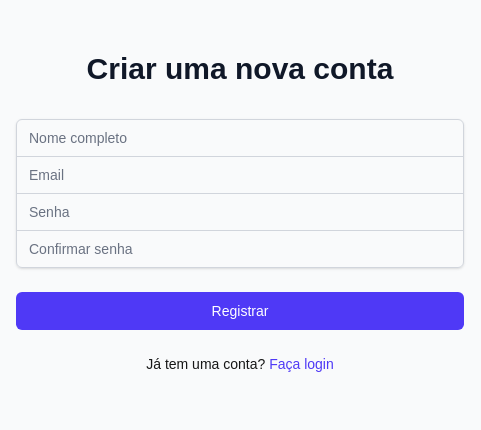
Test case: Register › should show error message on empty fields
Click the button "Registrar" at (240,310), box x1=16 y1=292 x2=464 y2=330
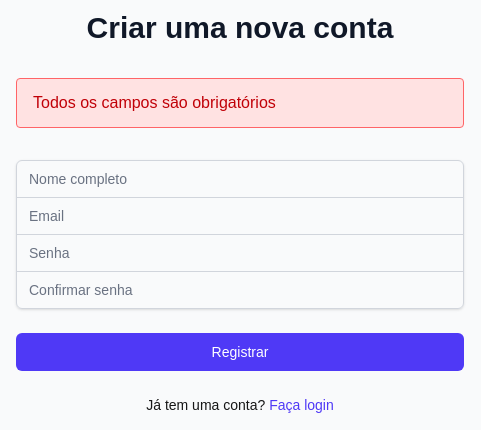
Now the text "Todos os campos são obrigatórios" is shown, box x1=33 y1=94 x2=276 y2=110
